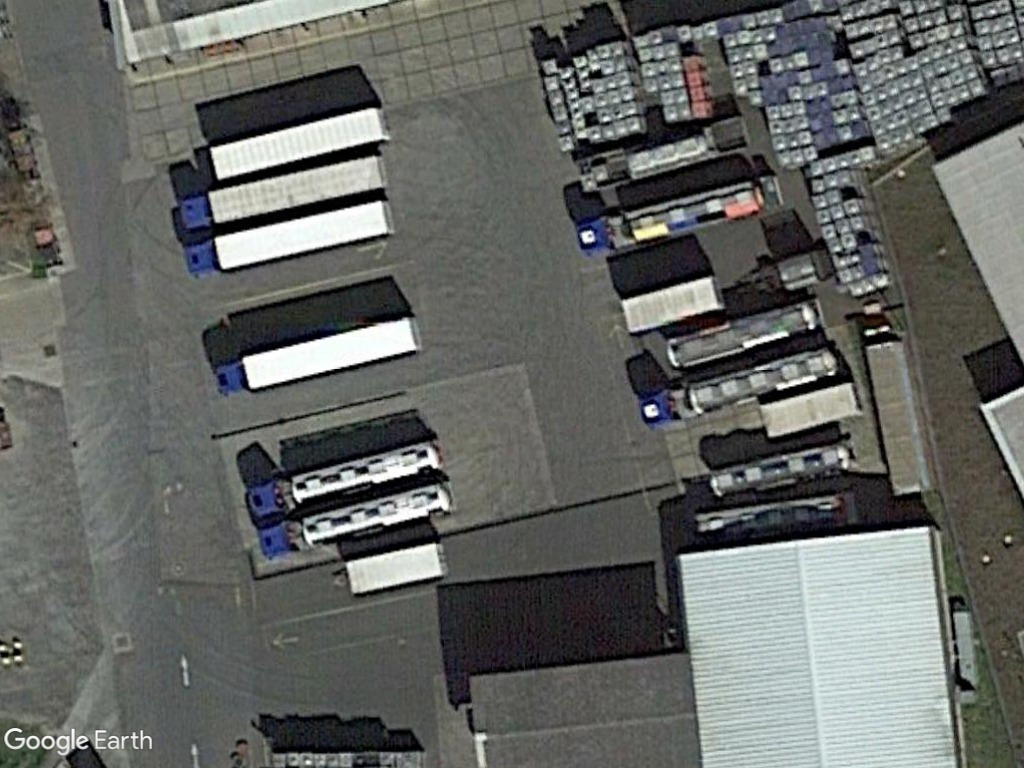longvehicle: (210, 309, 422, 403), (177, 150, 389, 239), (184, 193, 389, 279), (201, 106, 390, 179), (857, 335, 936, 501), (335, 535, 452, 600), (754, 376, 863, 441), (617, 273, 727, 336)
other: (240, 436, 446, 526), (574, 170, 780, 258), (256, 475, 456, 564), (636, 344, 842, 426)
